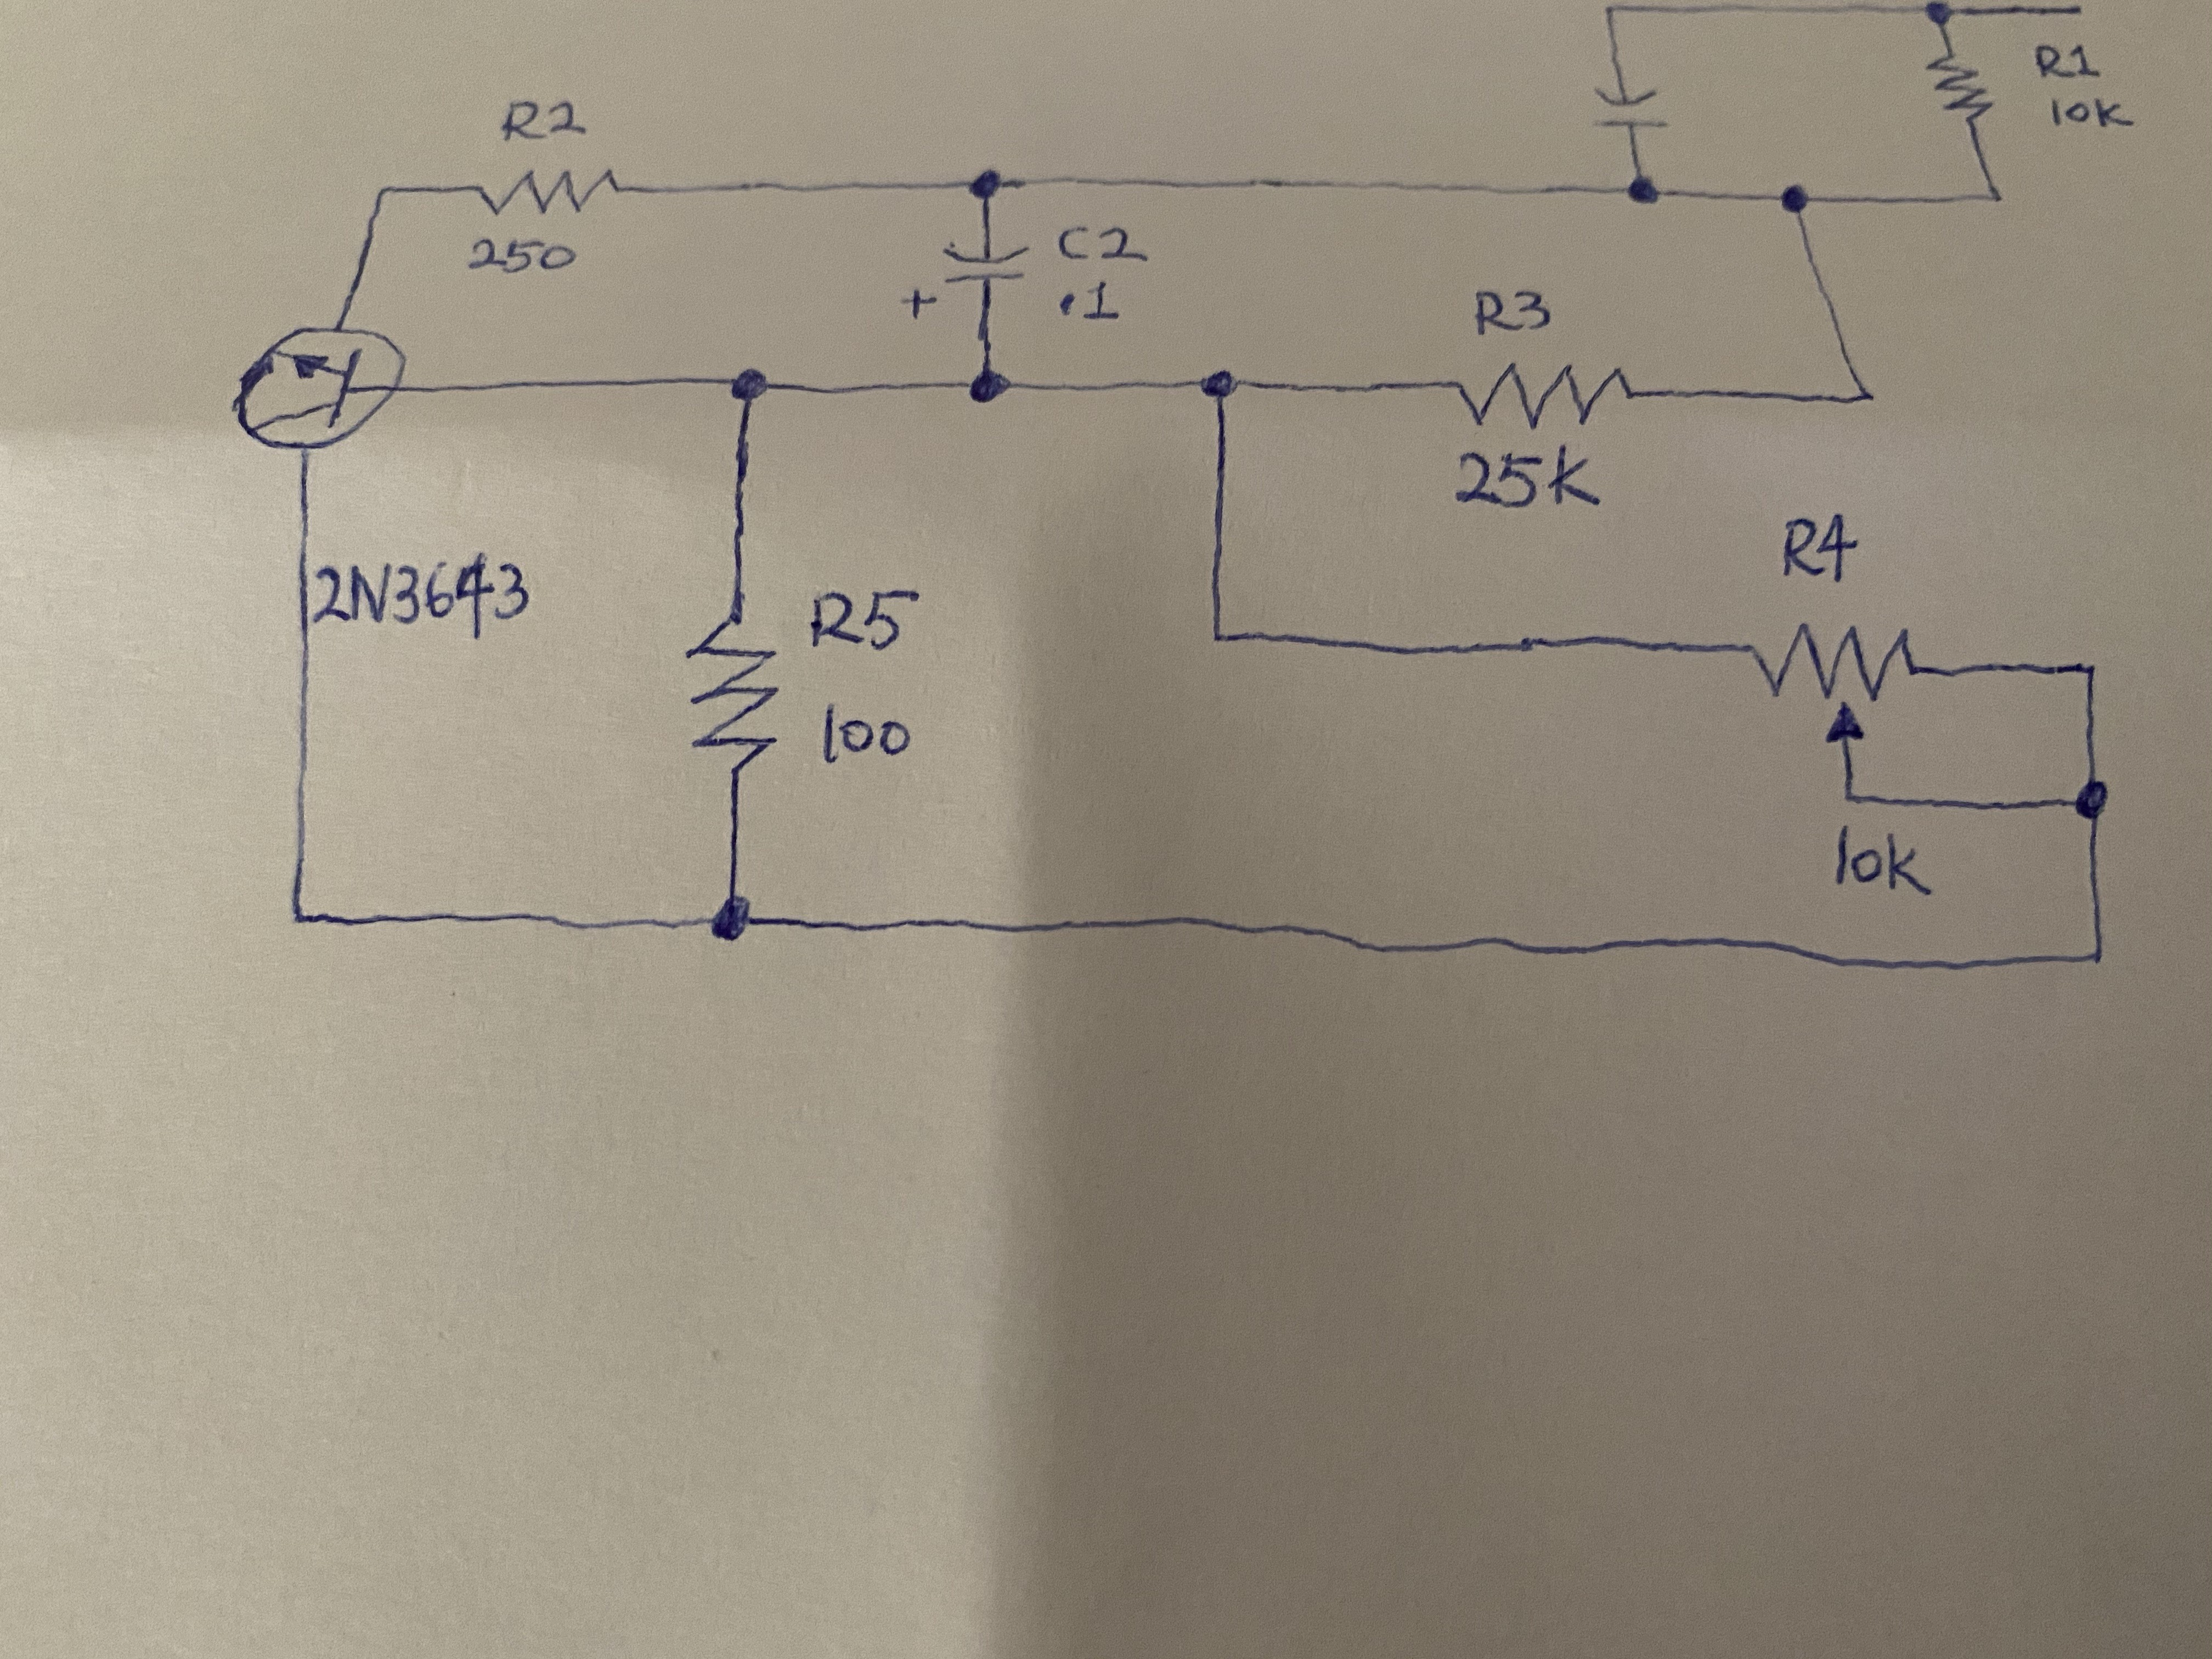capacitor.polarized: (899, 239, 1033, 322)
capacitor.unpolarized: (1581, 77, 1688, 138)
junction: (691, 878, 773, 957), (944, 350, 1033, 416), (2057, 762, 2130, 842), (709, 356, 791, 418), (1179, 354, 1256, 420), (266, 877, 333, 948), (1825, 354, 1895, 420), (1764, 167, 1829, 228), (956, 155, 1022, 213), (2062, 917, 2118, 985), (1961, 166, 2024, 225), (1611, 164, 1677, 220), (1195, 603, 1254, 664), (2057, 640, 2111, 697), (1587, 0, 1651, 45), (1905, 0, 1982, 35), (361, 164, 408, 218), (1834, 774, 1874, 814)
resistor: (681, 605, 782, 786), (1446, 361, 1641, 429), (469, 166, 639, 220), (1919, 45, 2008, 141)
resistor.adjustable: (1745, 619, 1925, 748)
terminal: (2041, 0, 2114, 30)
text: (312, 549, 540, 638), (1449, 439, 1613, 516), (801, 577, 923, 655), (1827, 823, 1939, 904), (808, 697, 914, 774), (1777, 500, 1865, 587), (455, 228, 590, 284), (495, 87, 596, 146), (1472, 279, 1559, 343), (1054, 214, 1153, 267), (2045, 94, 2149, 141), (1055, 277, 1132, 328), (2029, 35, 2109, 82)
transistor: (225, 317, 441, 465)
